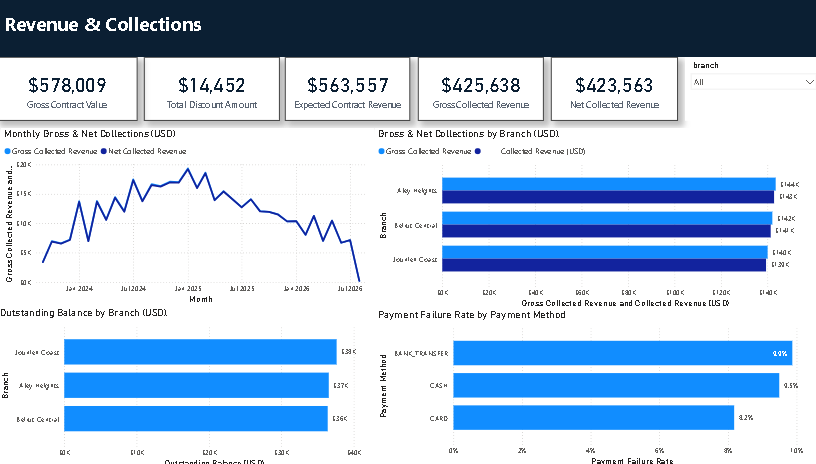

This screenshot's page, from the dashboard's own definition file:
{"tool":"powerbi","page":{"name":"Revenue & Collections","canvas":[1400,800],"ordinal":2},"visuals":[{"type":"textbox","box":[0,24.9,1280,88.8],"z":0},{"type":"card","fields":{"Values":["_Measures.Total Discount Amount"]},"box":[248.4,100,229.7,107.8],"z":1000},{"type":"card","fields":{"Values":["_Measures.Expected Contract Revenue"]},"box":[488.3,100,211.7,108.3],"z":2000},{"type":"card","fields":{"Values":["_Measures.Gross Contract Value"]},"box":[0,100,237.5,107.8],"z":3000},{"type":"card","fields":{"Values":["_Measures.Gross Collected Revenue"]},"box":[713.3,100,213.3,108.3],"z":4000},{"type":"card","fields":{"Values":["_Measures.Net Collected Revenue"]},"box":[938.3,100,215,108.3],"z":5000},{"type":"lineChart","title":"Monthly Gross & Net Collections (USD)","fields":{"Y":["_Measures.Gross Collected Revenue","_Measures.Net Collected Revenue"],"Category":["Dim_Date.month_start_date"]},"box":[6.7,220,633.3,303.3],"z":6000},{"type":"clusteredBarChart","title":"Gross & Net Collections by Branch (USD).","fields":{"Category":["Dim_Branch.branch_name"],"Y":["_Measures.Gross Collected Revenue","_Measures.Net Collected Revenue"]},"box":[640,220,755,310],"z":7000},{"type":"clusteredBarChart","title":"Outstanding Balance by Branch (USD).","fields":{"Category":["Dim_Branch.branch_name"],"Y":["_Measures.Total Outstanding Balance"]},"box":[0,523.3,640,276.7],"z":8000},{"type":"clusteredBarChart","title":"\tPayment Failure Rate by Payment Method","fields":{"Category":["Fact_Payment_Attempt.payment_method_code"],"Y":["_Measures.Payment Failure Rate"]},"box":[640,526.7,755,270],"z":9000},{"type":"slicer","fields":{"Values":["Dim_Branch.branch_name"]},"box":[1166.7,100,233.3,108.3],"z":10000},{"type":"shape","box":[0,0,1400,100],"z":11000},{"type":"textbox","box":[6.7,15,1146.7,170],"z":12000}]}

Visuals, with their boxes in screenshot pixels (x1, y1, x2, y2), scaled from the page's 1400x800 canvas onto the 816x464 screenshot:
textbox: 0,14,746,66
card - _Measures.Total Discount Amount: 145,58,279,121
card - _Measures.Expected Contract Revenue: 285,58,408,121
card - _Measures.Gross Contract Value: 0,58,138,121
card - _Measures.Gross Collected Revenue: 416,58,540,121
card - _Measures.Net Collected Revenue: 547,58,672,121
"Monthly Gross & Net Collections (USD)" lineChart: 4,128,373,304
"Gross & Net Collections by Branch (USD)." clusteredBarChart: 373,128,813,307
"Outstanding Balance by Branch (USD)." clusteredBarChart: 0,304,373,463
"	Payment Failure Rate by Payment Method" clusteredBarChart: 373,305,813,462
slicer - Dim_Branch.branch_name: 680,58,815,121
shape: 0,0,815,58
textbox: 4,9,672,107
